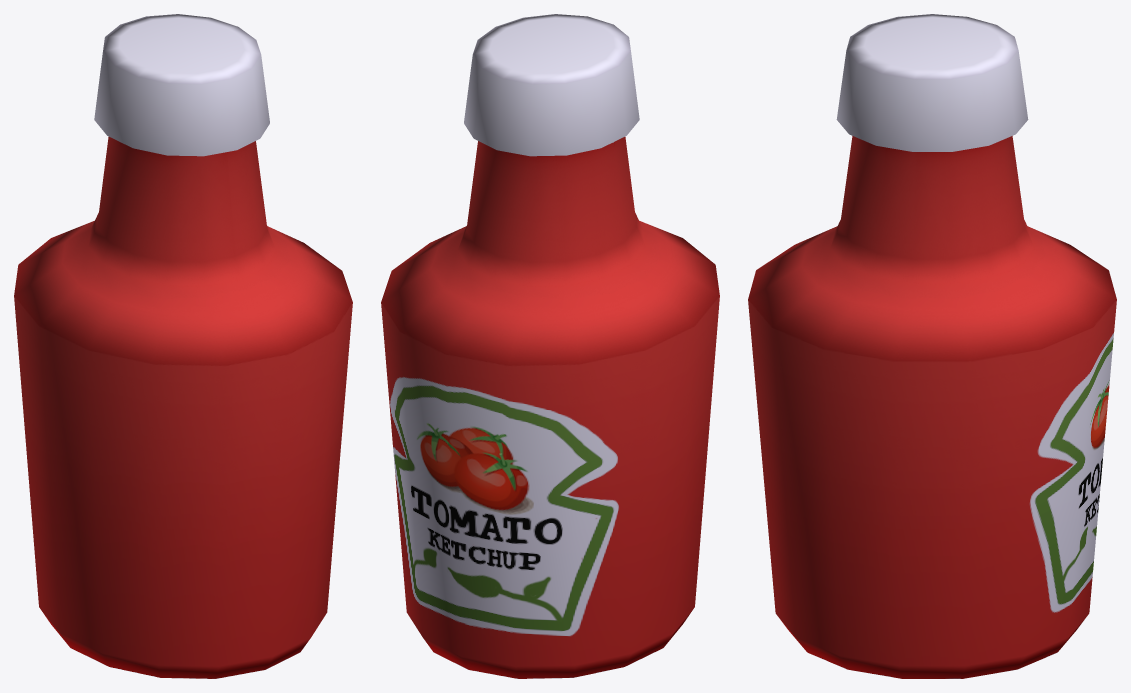
File: tuong ca.fbx
The picture shows the model from 3 angles, left to right: view 1: azimuth 30°, elevation 25°; view 2: azimuth 150°, elevation 25°; view 3: azimuth 270°, elevation 25°; orthographic projection.
Parts seen in each view (by area): view 1: thuong_ca; view 2: thuong_ca; view 3: thuong_ca.
Boxes of the visible parts, x1,y1,x2,y2 form: thuong_ca: [14, 14, 352, 678]; thuong_ca: [381, 14, 719, 678]; thuong_ca: [748, 14, 1116, 678].
Size of the model in its own units: 65.27 by 128 by 72.59.
1 material, 1 textured.
